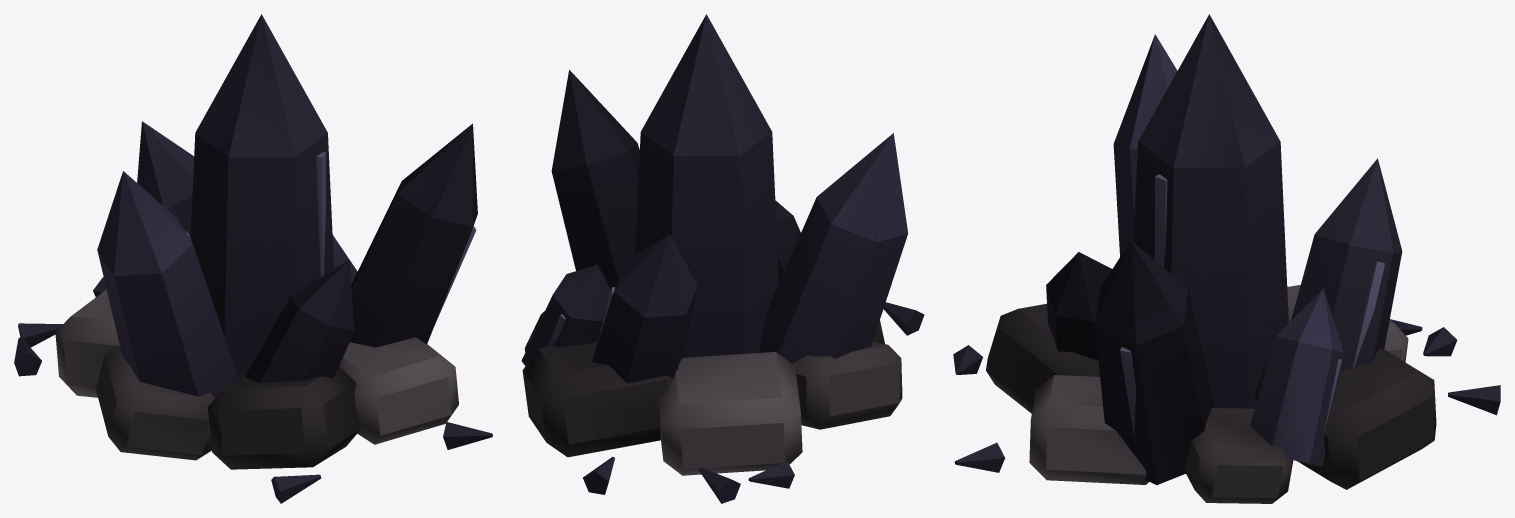
File: n_obsidian_1.glb
3 views of the same model, side by side, from view 1: azimuth 30°, elevation 25°; view 2: azimuth 150°, elevation 25°; view 3: azimuth 270°, elevation 25° (orthographic). The views are drawn at different scales.
Visible parts, largest first — view 1: body; view 2: body; view 3: body.
Boxes of the visible parts, x1,y1,x2,y2 form: body: [14, 14, 492, 503]; body: [521, 14, 924, 503]; body: [953, 14, 1500, 503].
Bounding box in the file's own units: 1.93 × 2.06 × 2.38.
